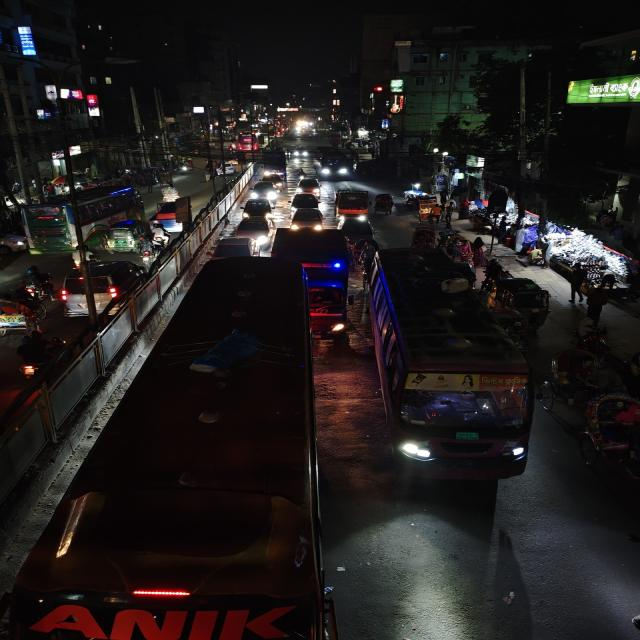bus: (49, 251, 314, 637), (360, 244, 535, 480), (19, 182, 145, 252), (312, 146, 354, 181)
car: (59, 257, 147, 315), (224, 215, 274, 252), (289, 206, 326, 232), (239, 197, 273, 220), (288, 192, 324, 212), (249, 178, 281, 200), (292, 176, 324, 196)
cng: (490, 276, 553, 320), (103, 219, 149, 253)
motorcycle: (15, 331, 65, 379)
pedestrian: (580, 286, 612, 322)
pickup_van: (151, 193, 193, 234), (333, 187, 372, 221)
rickshaw: (576, 392, 640, 469), (549, 346, 602, 409), (0, 292, 44, 336), (408, 193, 445, 225), (408, 226, 440, 251), (372, 191, 398, 219)
truck: (273, 229, 366, 337), (260, 152, 289, 182)
